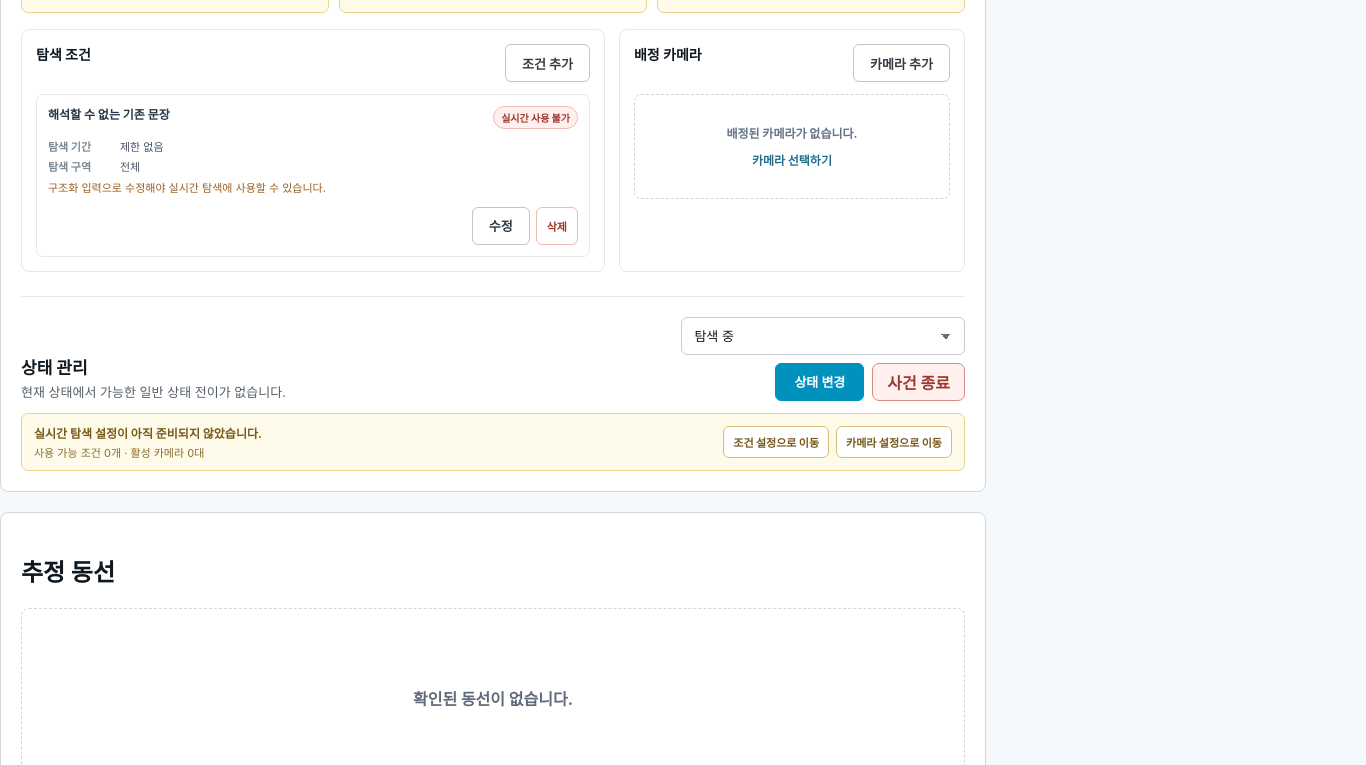
Scenario: CaseDetailView › 실시간 사용 가능 조건이나 활성 카메라가 없으면 SEARCHING 전환을 UI에서 차단한다
(page scrolled)
Click the button "상태 변경": (820, 382) [775, 363, 864, 401]
(page scrolled)
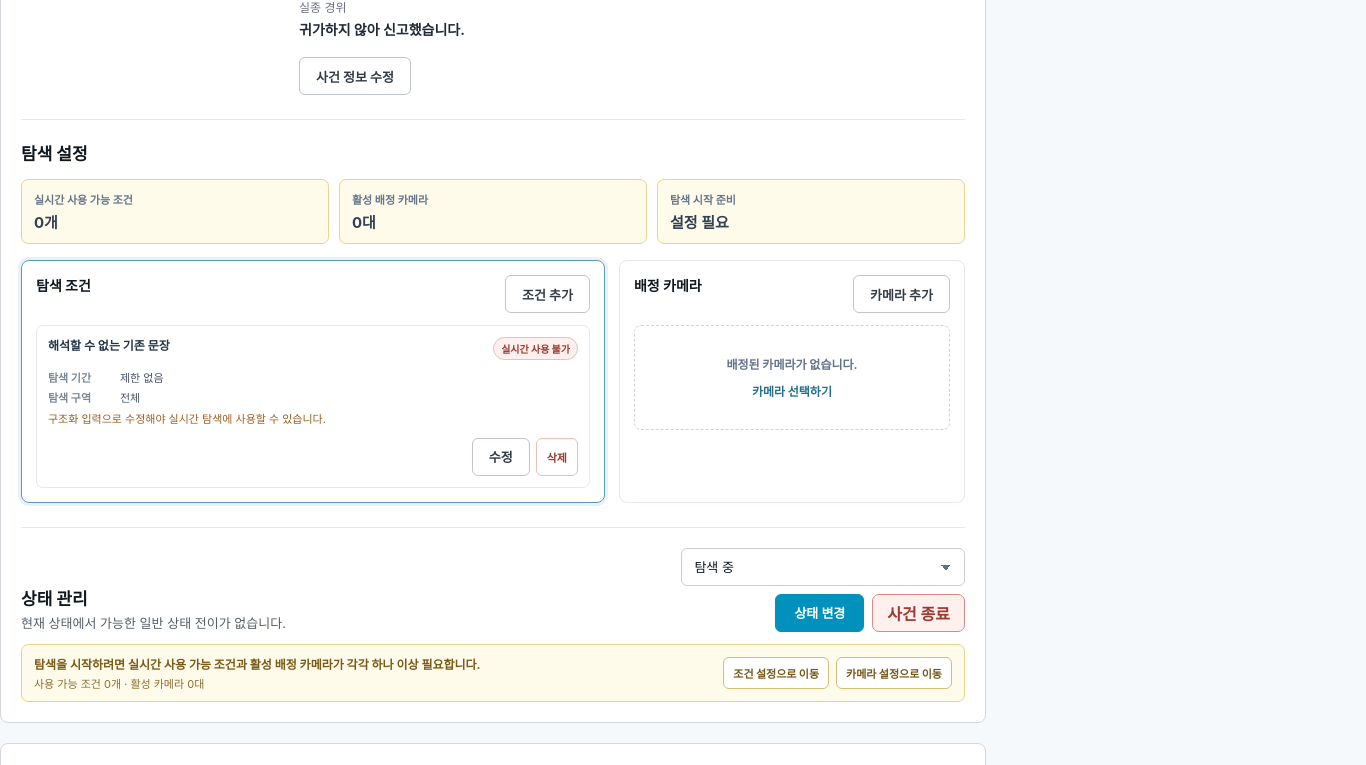
Expected: the text "조건 설정으로 이동" is shown, [723, 657, 829, 689]
Now the text "탐색을 시작하려면 실시간 사용 가능 조건과 활성 배정 카메라가 각각 하나 이상 필요합니다." is shown, box [34, 655, 481, 672]
